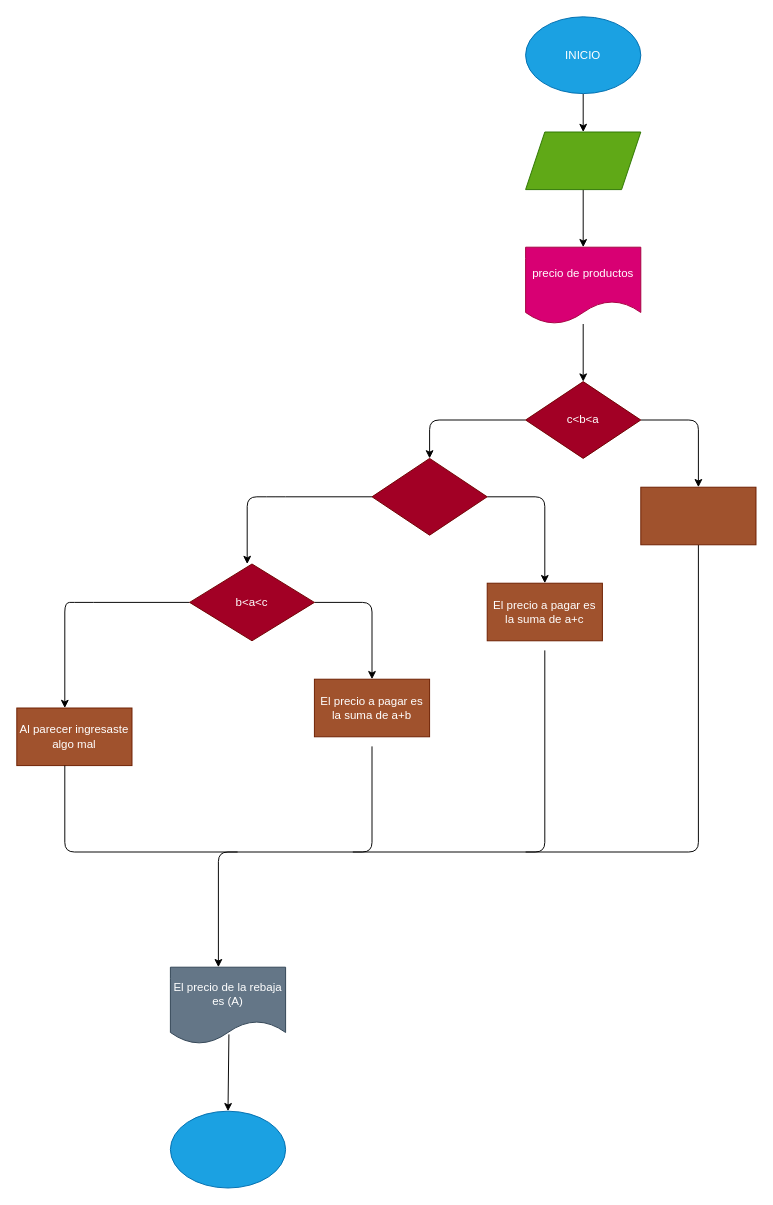
Image size: 773x1205. Some labels were removed from this diagram. Each missing label, with the centre of its shape:
a<c<b: pixel 429 496
El precio a pagar es la suma de c+b: pixel 698 515
FIN: pixel 227 1149
Produtos: pixel 583 160
